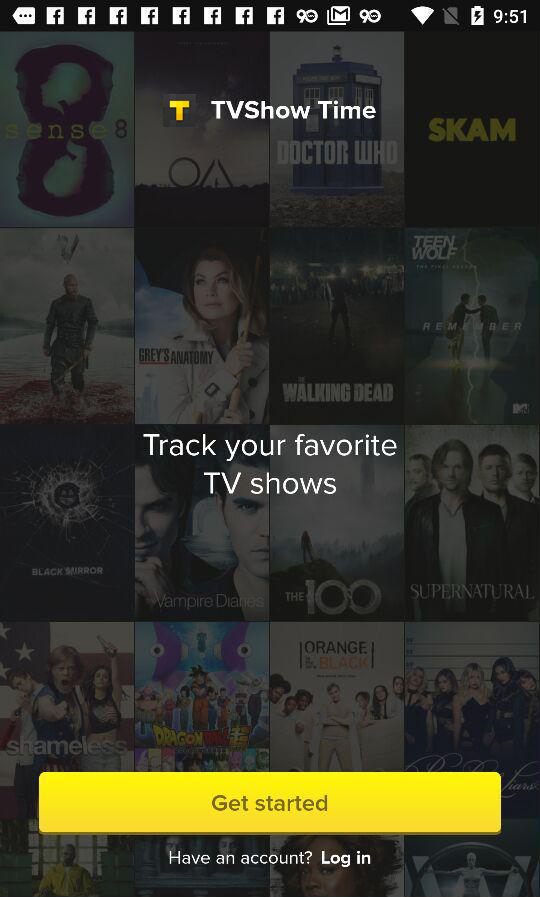BackgroundImage: (1, 33, 540, 897)
Image: (163, 94, 197, 128)
Text: (143, 434, 398, 496), (169, 850, 371, 868), (211, 101, 377, 121)
TextButton: (40, 772, 502, 836)
UpperTaskBar: (1, 1, 540, 33)
